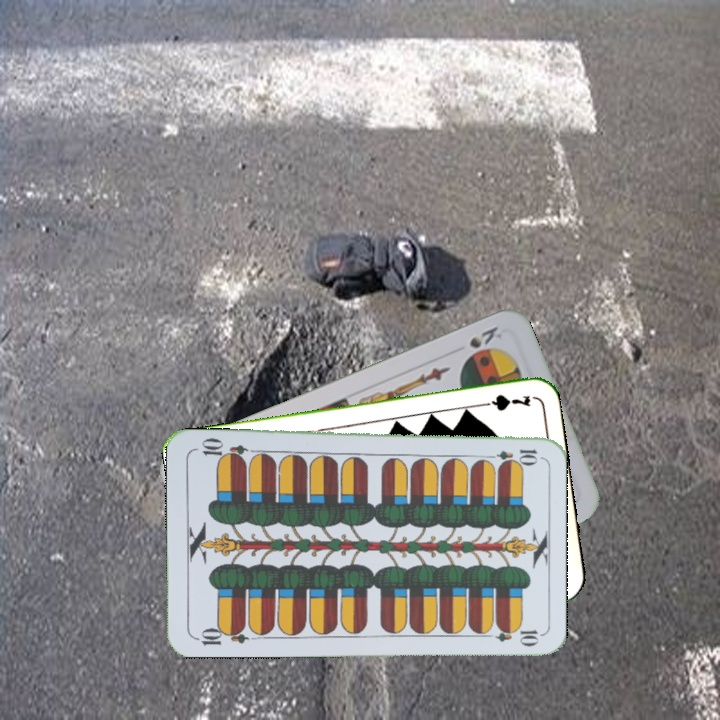E10: (191, 622, 250, 649), (481, 445, 540, 463)
G7: (473, 390, 533, 414)
SK: (465, 322, 505, 351)
